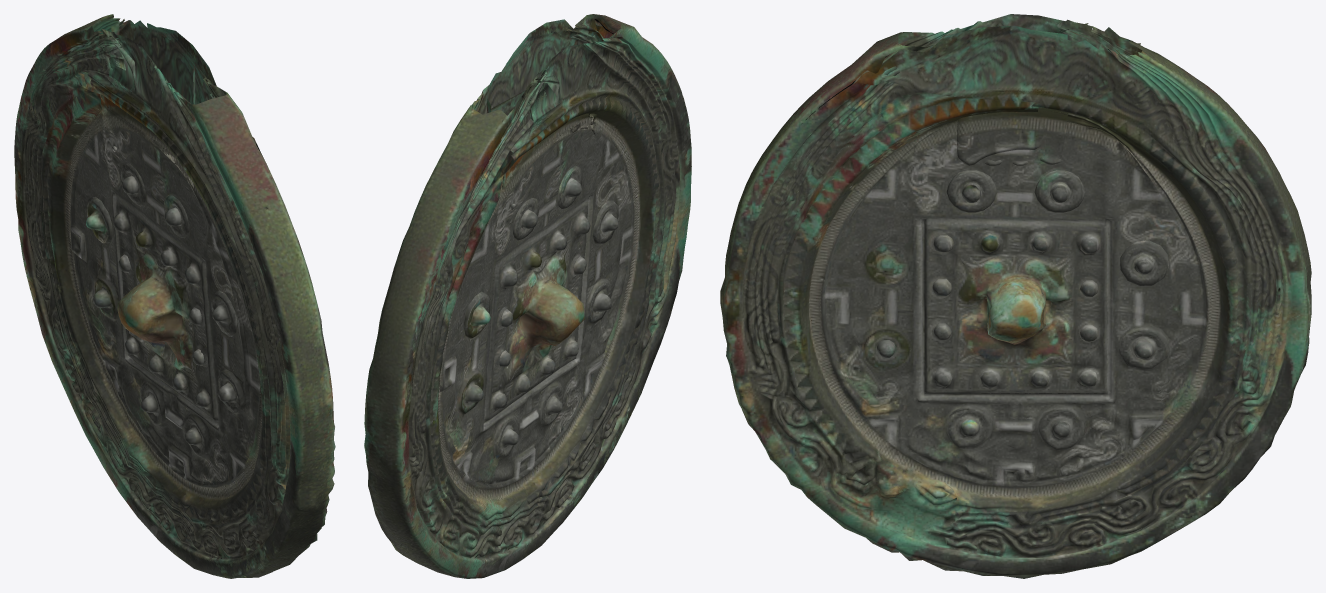
The model's file is han-tlv-guiju-mirror.glb.
3 renders of one model, left to right at view 1: azimuth 30°, elevation 25°; view 2: azimuth 150°, elevation 25°; view 3: azimuth 270°, elevation 25°, orthographic. The views are drawn at different scales.
Visible parts, largest first — view 1: node_5348aad5-65e1-418c-89e4-518d16cbeb66; view 2: node_5348aad5-65e1-418c-89e4-518d16cbeb66; view 3: node_5348aad5-65e1-418c-89e4-518d16cbeb66.
Part boxes in pixels (<box>): node_5348aad5-65e1-418c-89e4-518d16cbeb66: <box>14,14,335,578</box>; node_5348aad5-65e1-418c-89e4-518d16cbeb66: <box>364,14,691,578</box>; node_5348aad5-65e1-418c-89e4-518d16cbeb66: <box>720,14,1311,578</box>.
Size of the model in its own units: 0.1957 by 1.01 by 0.998.
Materials: 1 (1 with a texture image).
